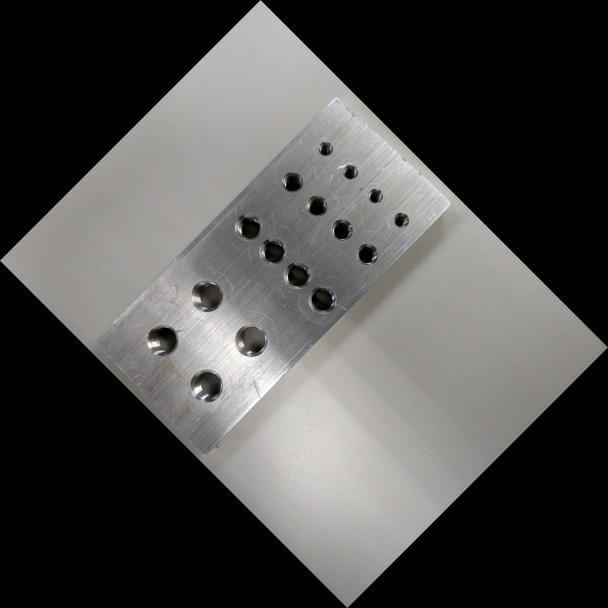hole: (181, 361, 231, 410), (227, 315, 276, 364), (183, 271, 231, 320), (139, 316, 186, 363), (227, 205, 269, 247), (276, 254, 318, 296), (301, 279, 343, 321), (252, 231, 292, 271), (350, 237, 384, 271), (325, 213, 359, 246), (276, 165, 309, 198), (301, 189, 333, 221), (389, 207, 413, 232), (338, 160, 362, 183), (364, 184, 387, 207), (314, 137, 336, 159)
